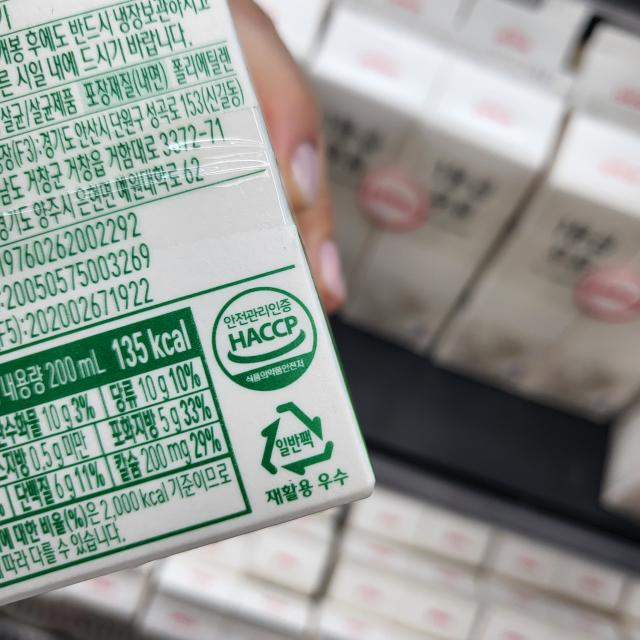NormalPack: (255, 398, 340, 478)
